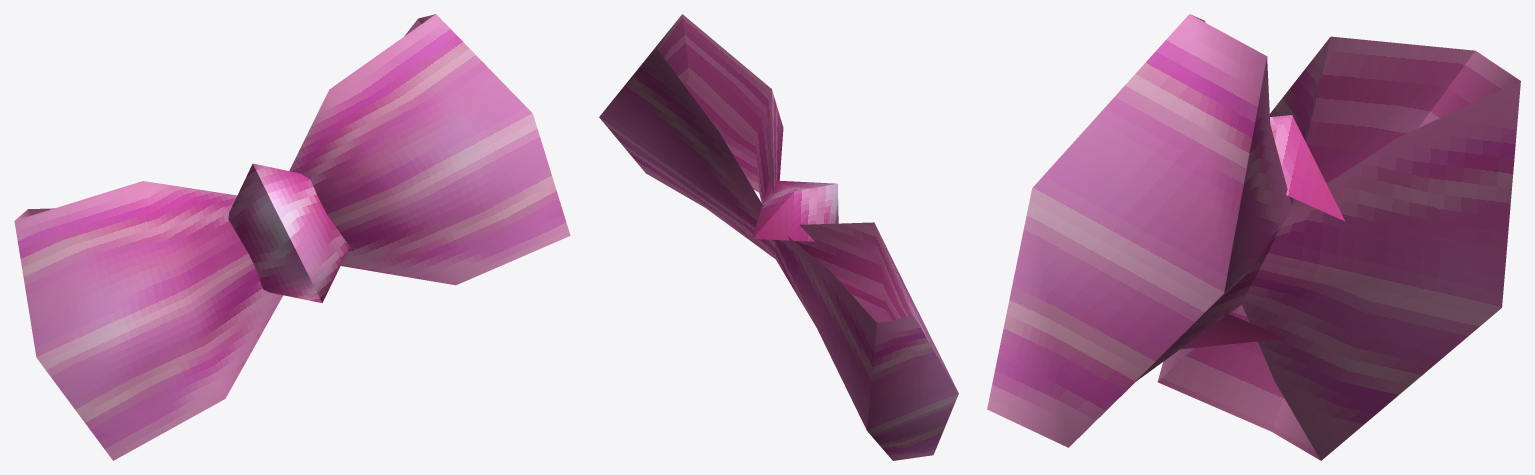
File: tt_m_chr_avt_acc_hat_ribbon.glb
The picture shows the model from 3 angles, left to right: view 1: azimuth 30°, elevation 25°; view 2: azimuth 150°, elevation 25°; view 3: azimuth 270°, elevation 25°; orthographic projection. The views are drawn at different scales.
Visible parts, largest first — view 1: ribbonHat; view 2: ribbonHat; view 3: ribbonHat.
Part boxes in pixels (x1,y1,x2,y2): ribbonHat: [14, 14, 570, 460]; ribbonHat: [599, 14, 958, 460]; ribbonHat: [987, 14, 1520, 460].
Bounding box in the file's own units: 2.16 × 1.89 × 1.36.
1 material, 1 textured.
